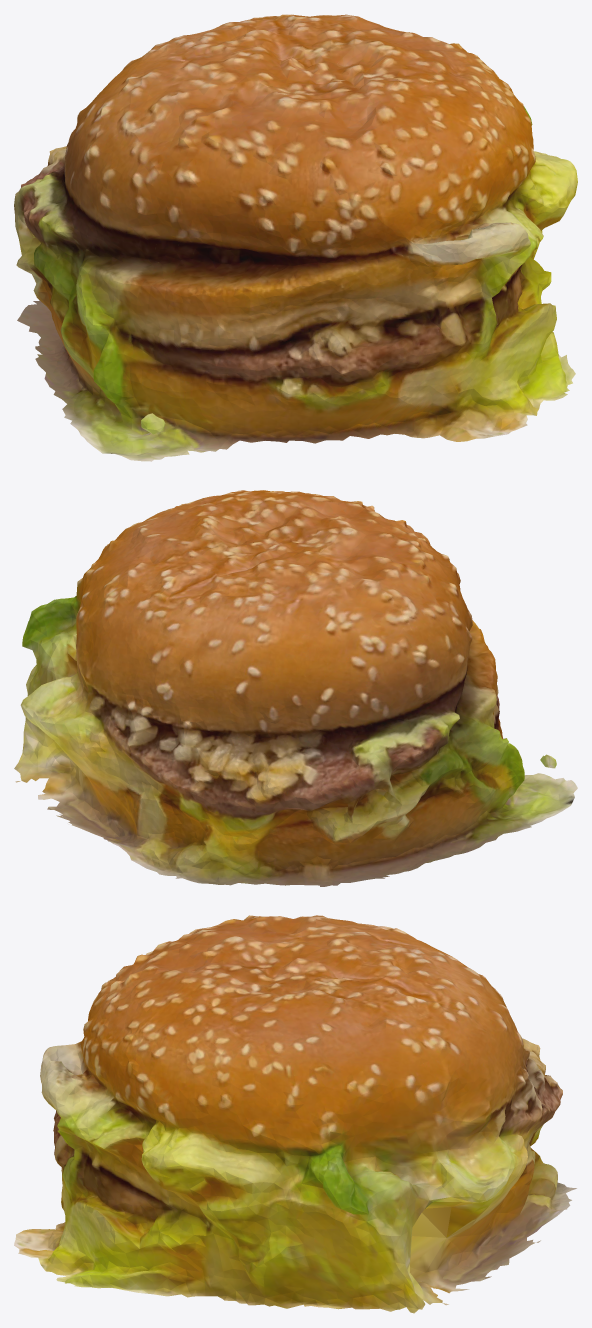
Rendered from asset.glb.
3 views of the same model, one above another, from view 1: azimuth 30°, elevation 25°; view 2: azimuth 150°, elevation 25°; view 3: azimuth 270°, elevation 25° (orthographic). The views are drawn at different scales.
Bounding box in the file's own units: 20.72 × 10.83 × 20.54.
1 material, 1 textured.
